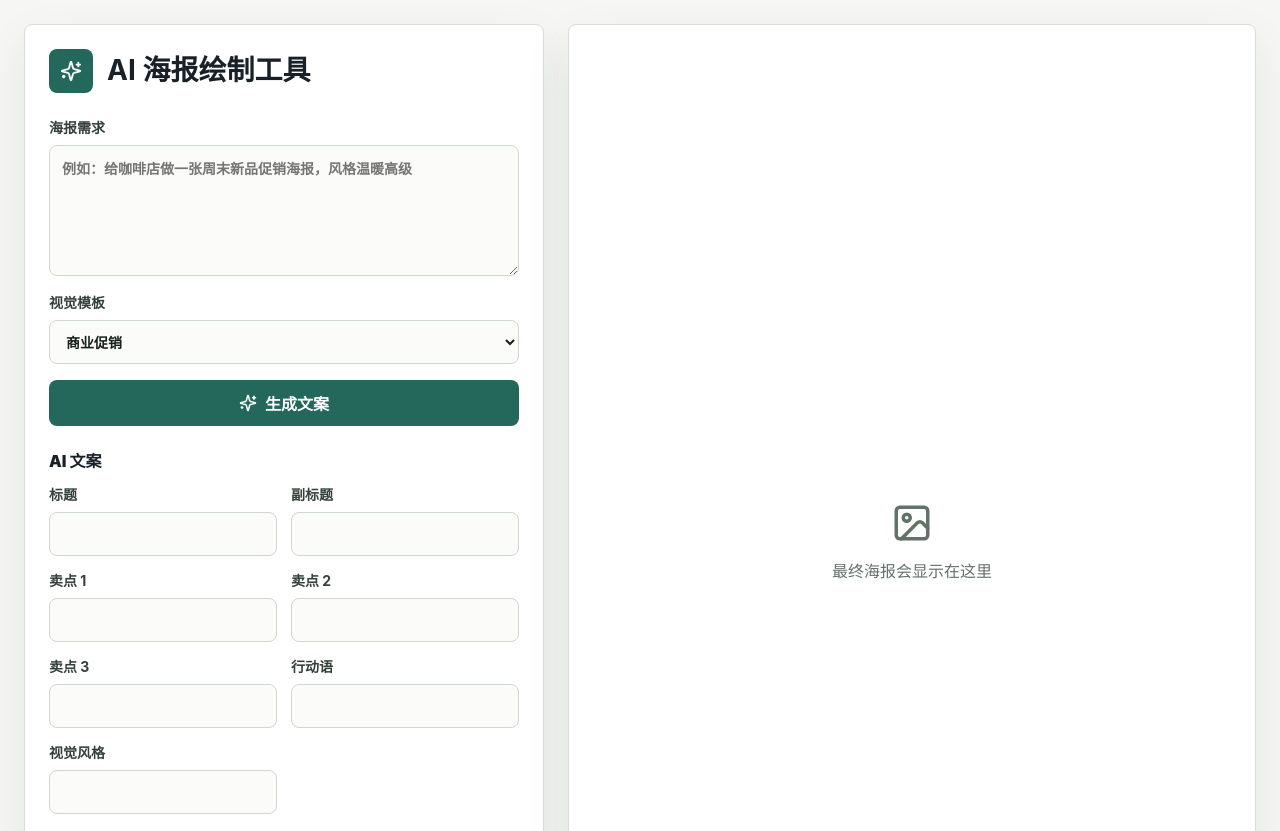
Test: PosterTool › keeps the user requirement visible when copy generation fails
Type "咖啡店周末促销" into the text box labelled "海报需求" at (284, 210), box [49,145,519,276]
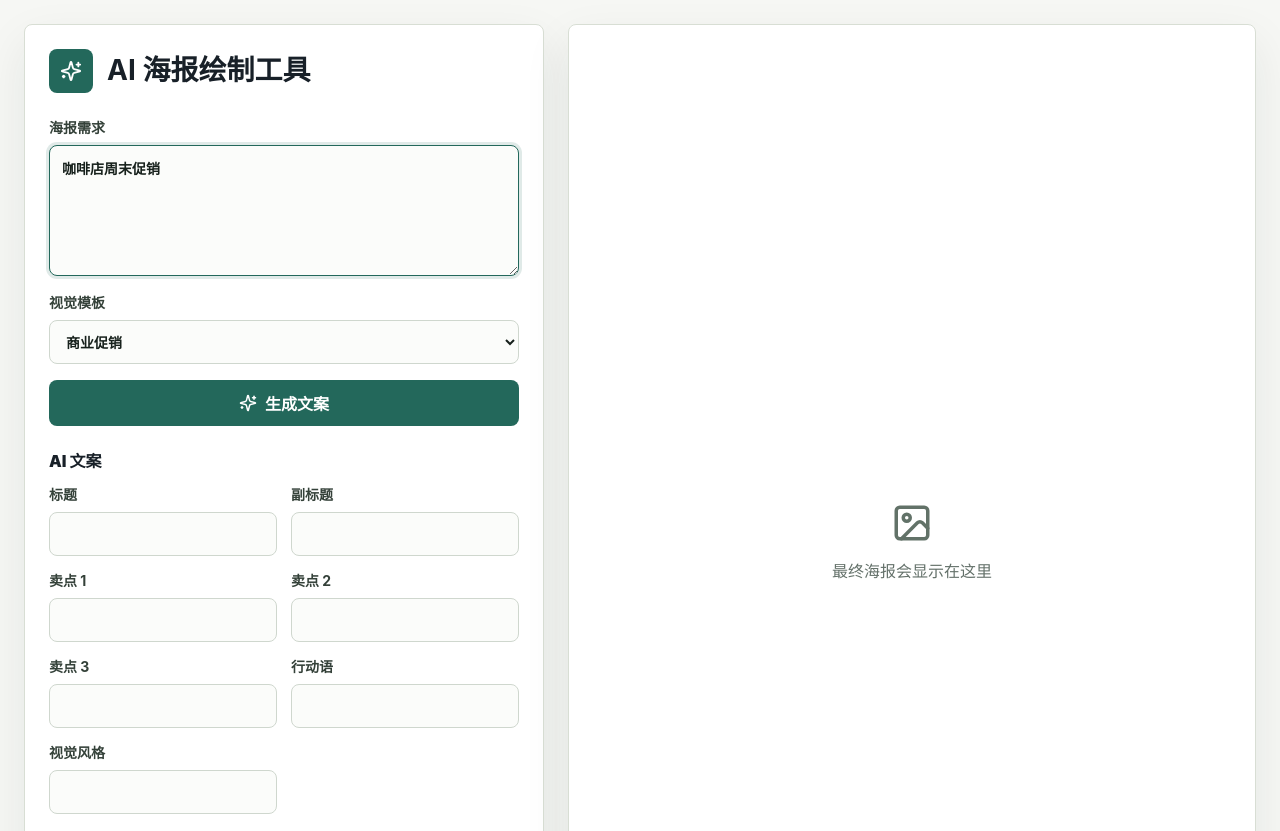
Click the button "生成文案" at (284, 403), box [49,380,519,426]
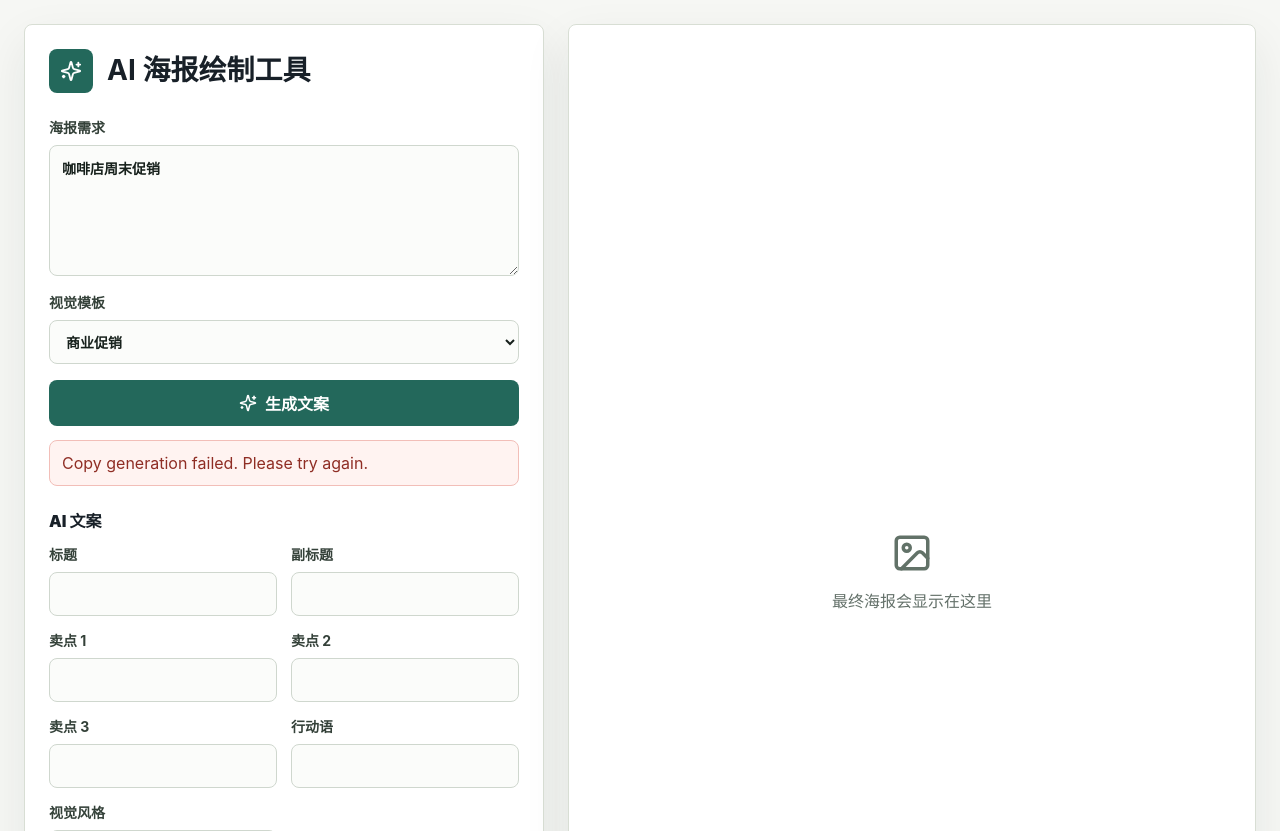
Now the text "Copy generation failed. Please try again." is shown, box [49,440,519,486]
